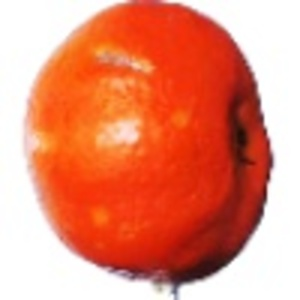tangerina: (21, 1, 276, 300)
